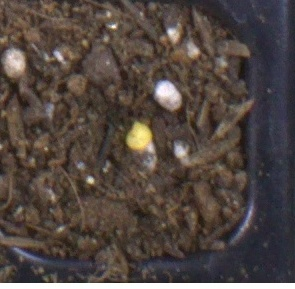chilli seed: (124, 120, 152, 150)
